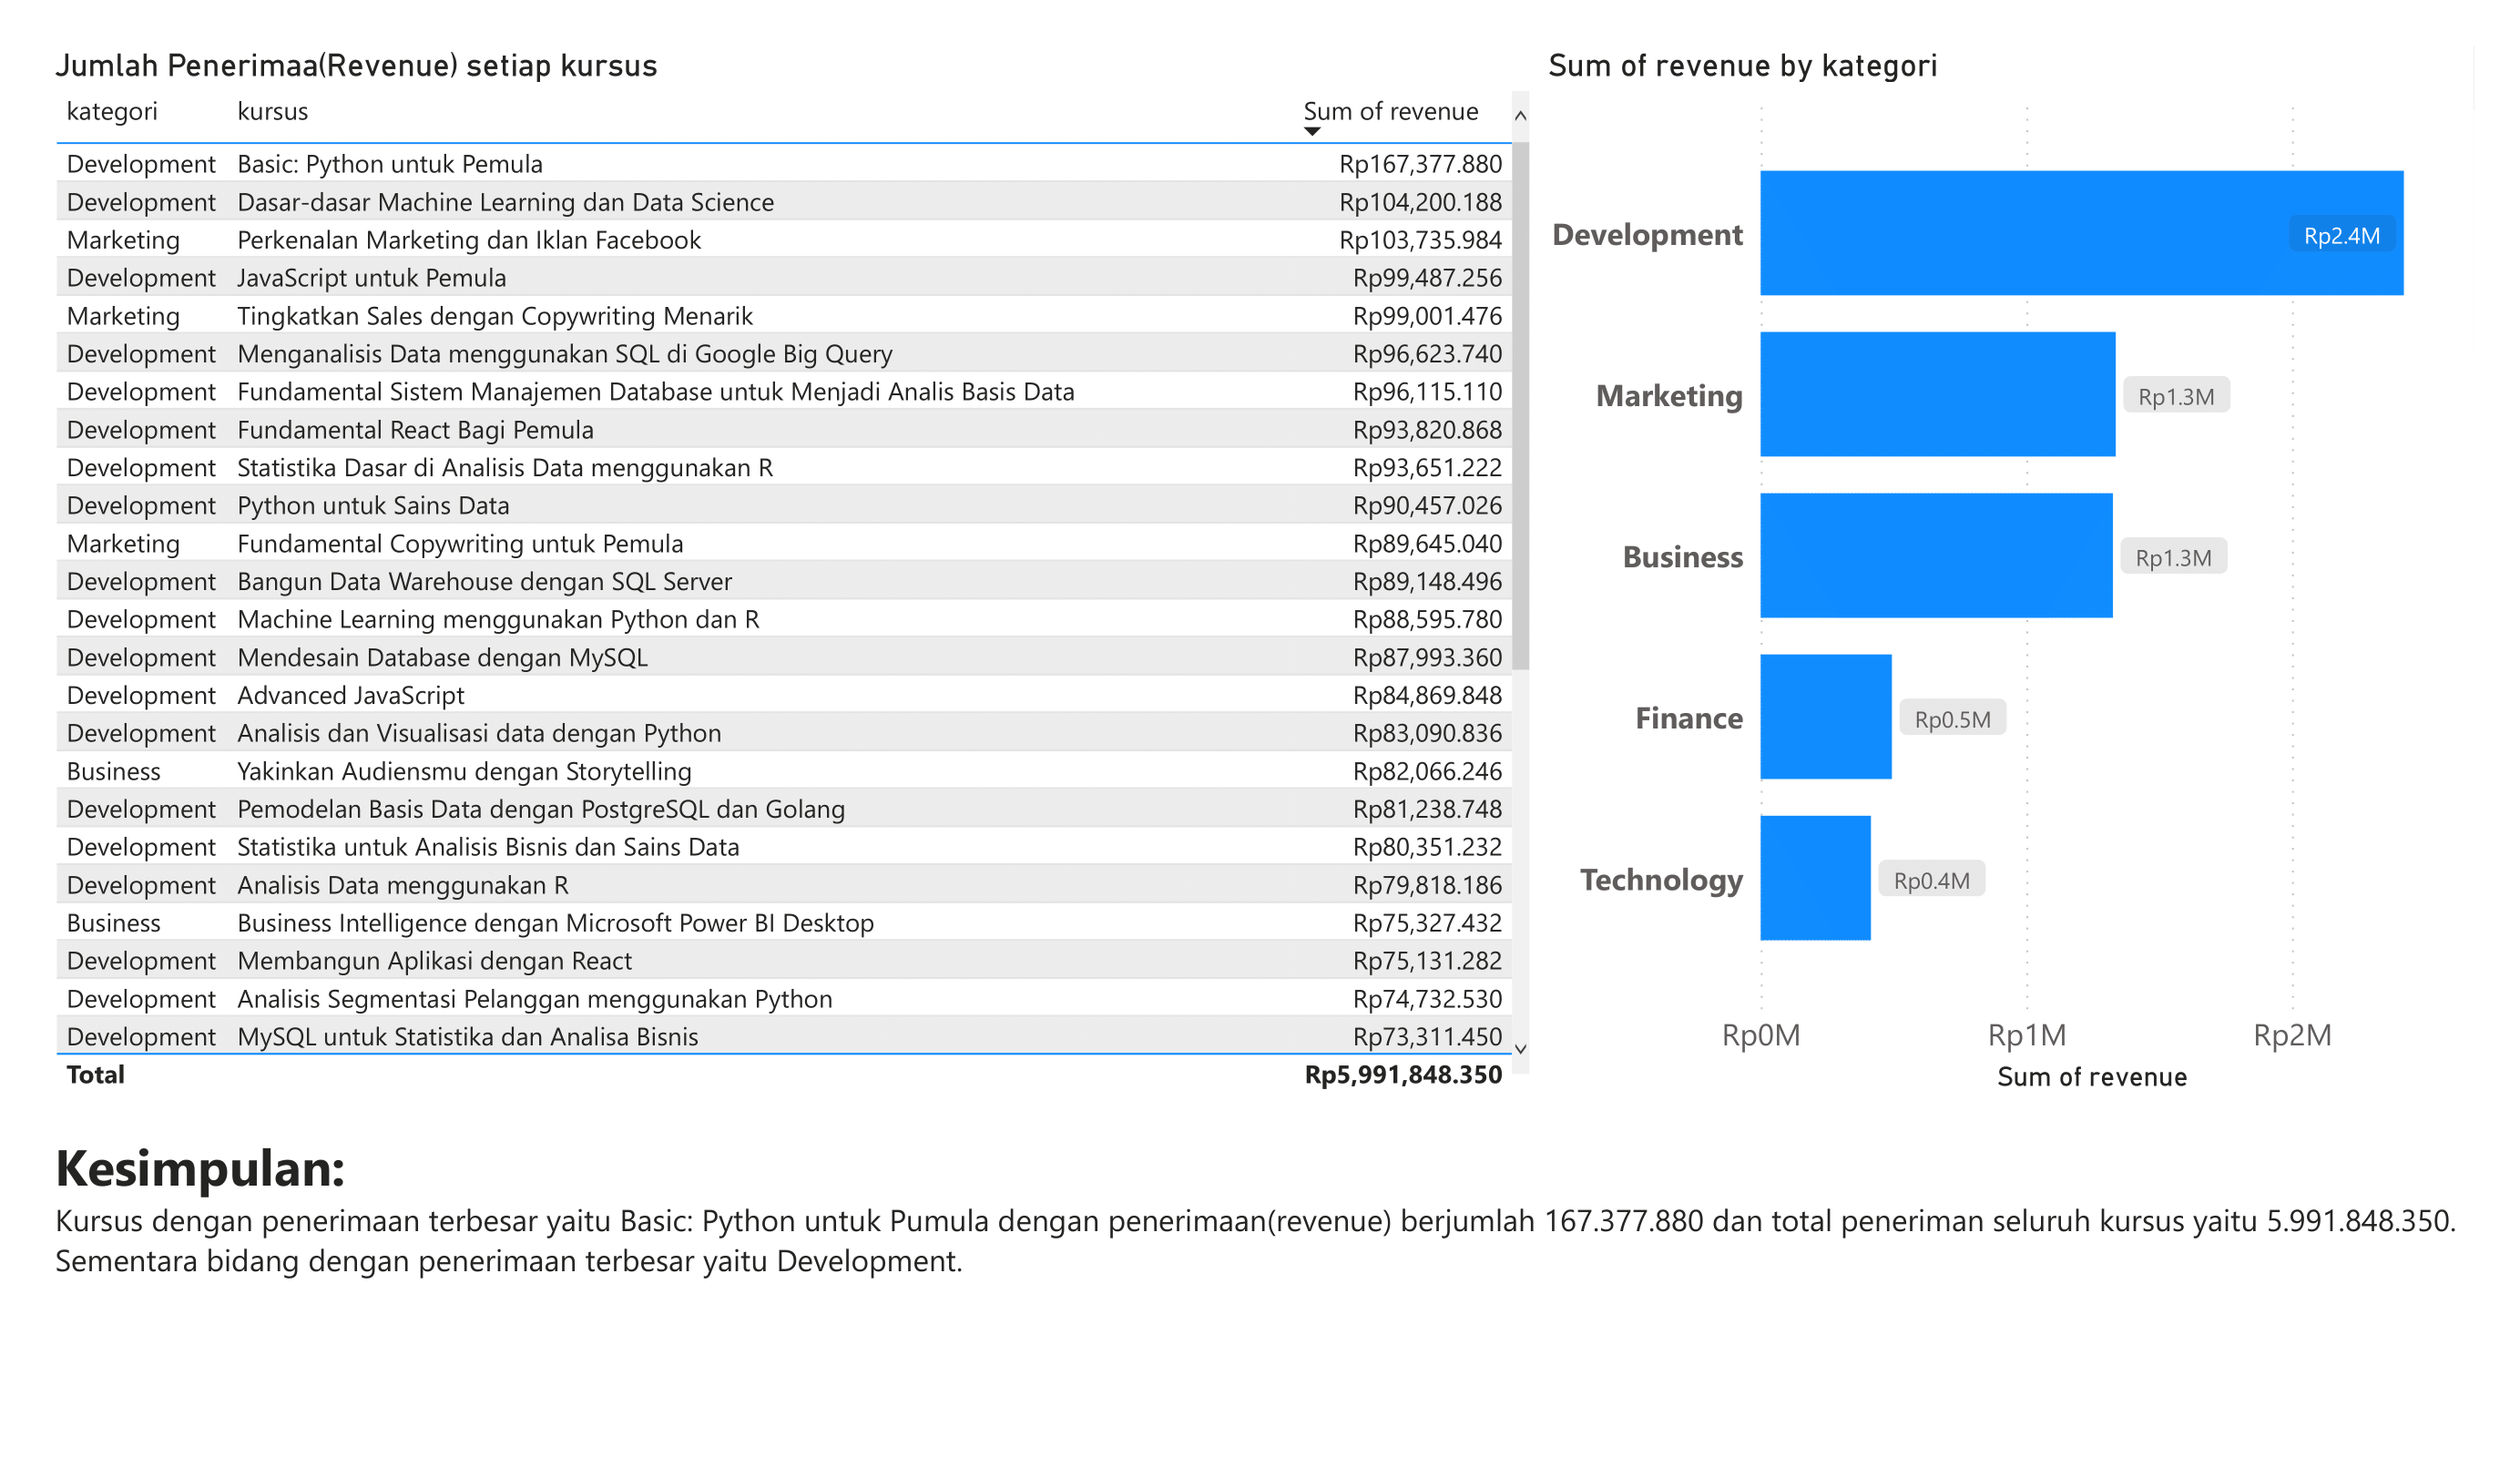

What the dashboard file says about the page in this screenshot:
{"tool":"powerbi","page":{"name":"Penerimaan Pelatihan Online","canvas":[1280,720],"ordinal":0},"visuals":[{"type":"tableEx","title":"Jumlah Penerimaa(Revenue) setiap kursus","fields":{"Values":["public db_revenue_course.kategori","public db_revenue_course.kursus","Sum(public db_revenue_course.revenue)"]},"box":[0,0,786.8,556.3],"z":0},{"type":"barChart","fields":{"Category":["public db_revenue_course.kategori"],"Y":["Sum(public db_revenue_course.revenue)"]},"box":[786.8,0,493.2,556.3],"z":1000},{"type":"textbox","box":[0,566.6,1280,153.2],"z":2000}]}

Visuals, with their boxes in screenshot pixels (x1, y1, x2, y2):
"Jumlah Penerimaa(Revenue) setiap kursus" tableEx: select_region(46, 46, 1538, 1101)
barChart - public db_revenue_course.kategori x Sum(public db_revenue_course.revenue): select_region(1538, 46, 2474, 1101)
textbox: select_region(46, 1120, 2474, 1411)
